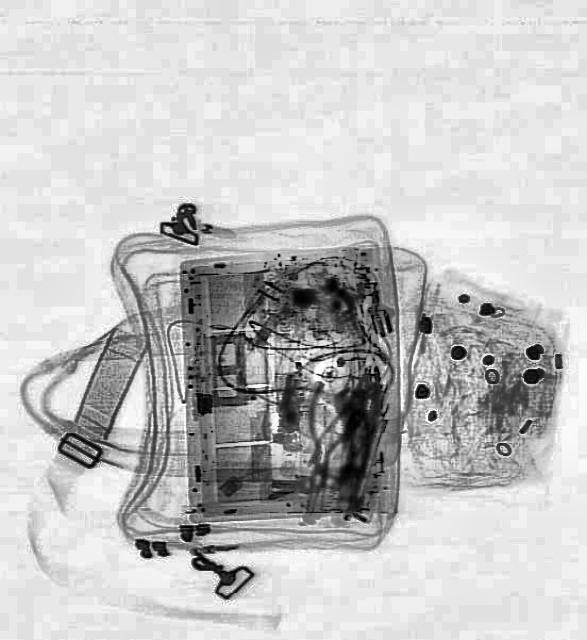Pliers: (294, 380, 360, 490), (294, 381, 350, 464)
